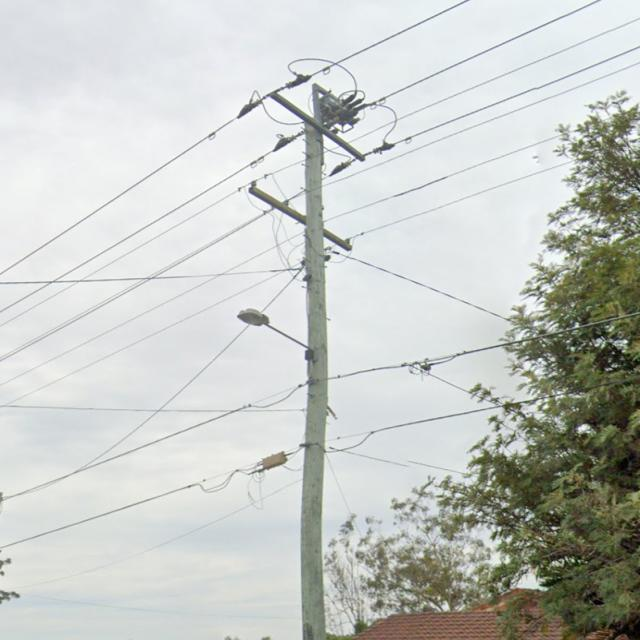HV-switch: (311, 83, 368, 129)
HV-transmission: (238, 74, 396, 178)
crossarm: (266, 92, 366, 162), (249, 187, 353, 252)
streetlight: (237, 306, 314, 353)
timber-pole: (300, 117, 328, 639)
